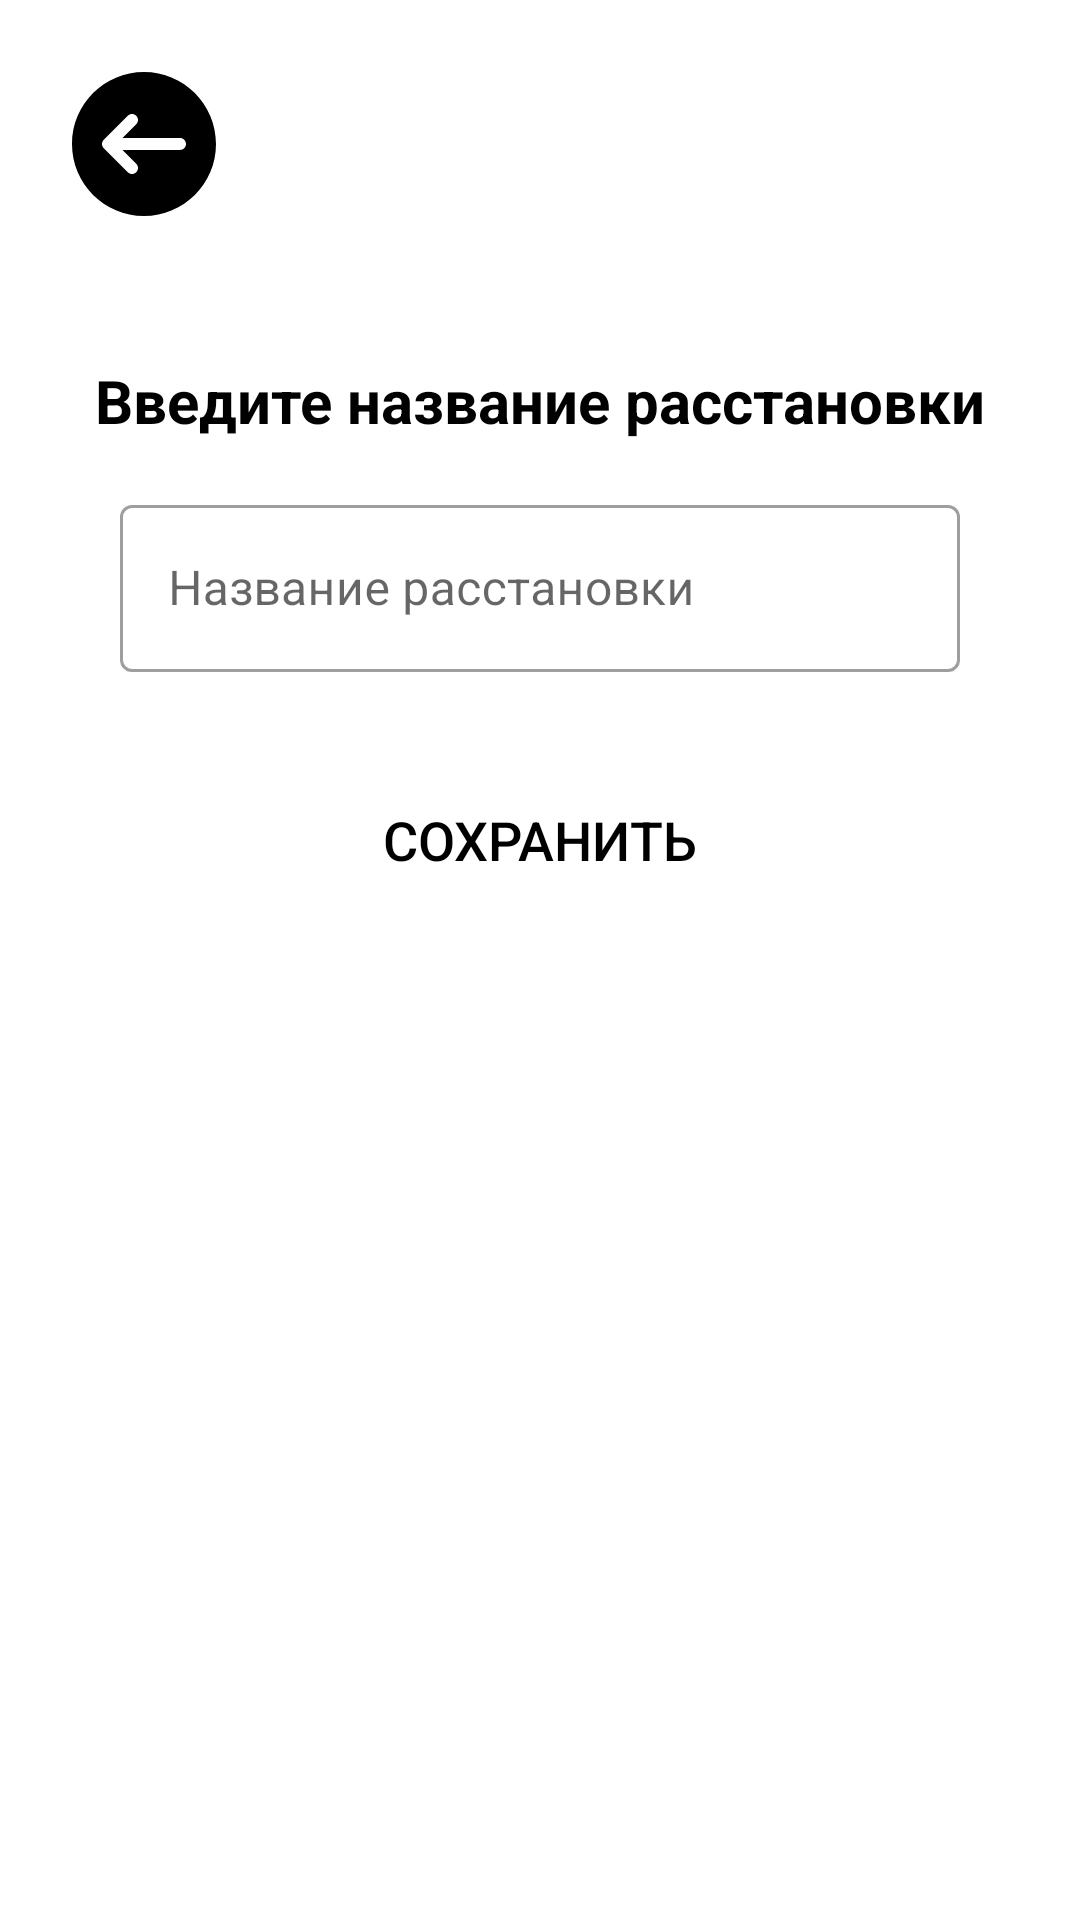

Point at icon controls on the screen. Image size 1080px x 1920px, points as (x,y).
Назад: (144,144)
